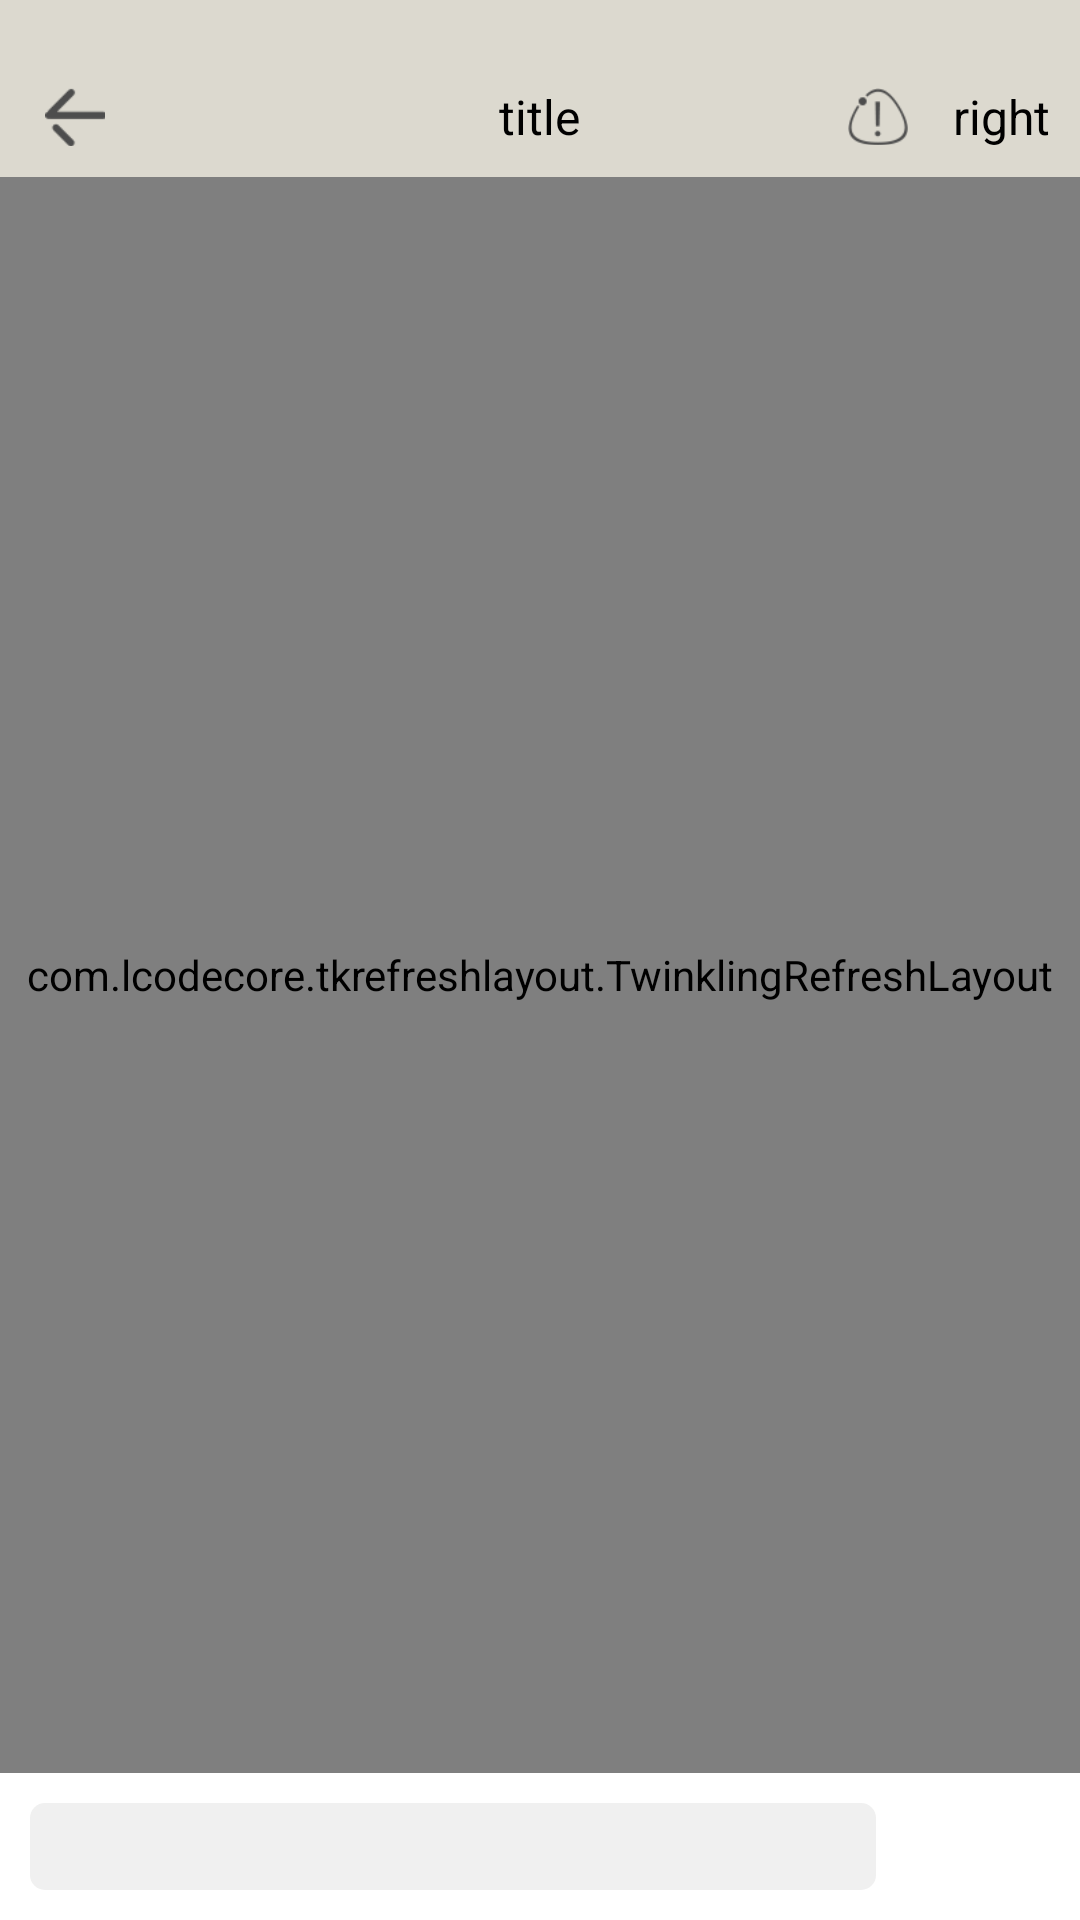

Point at icon controls on the screen. Image size 1080*1920, points as (x=x, y=y).
back: (x=75, y=117)
